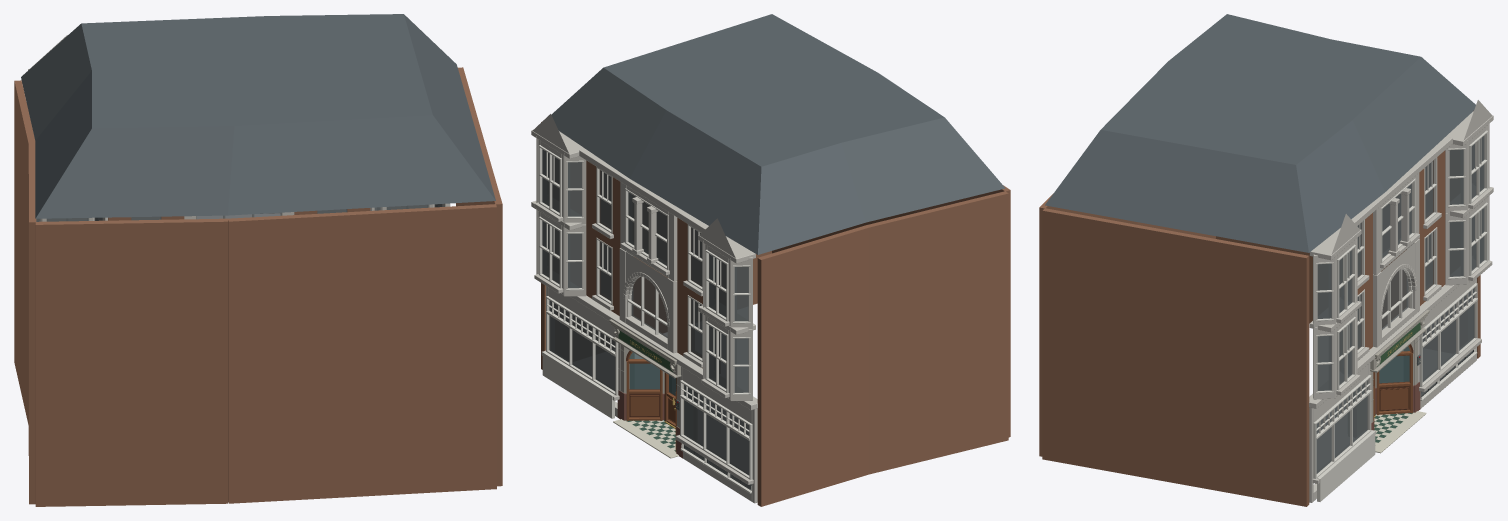
The model's file is lch-exterior-bb40ea2ca544.glb.
3 views of the same model, side by side, from view 1: azimuth 30°, elevation 25°; view 2: azimuth 150°, elevation 25°; view 3: azimuth 270°, elevation 25° (orthographic). The views are drawn at different scales.
Visible parts, largest first — view 1: LCH.001; view 2: LCH.001; view 3: LCH.001.
Boxes of the visible parts, bbox=[...] form: LCH.001: bbox=[14, 14, 502, 506]; LCH.001: bbox=[531, 14, 1010, 506]; LCH.001: bbox=[1039, 14, 1493, 506].
Size of the model in its own units: 19.23 by 13.5 by 17.71.
